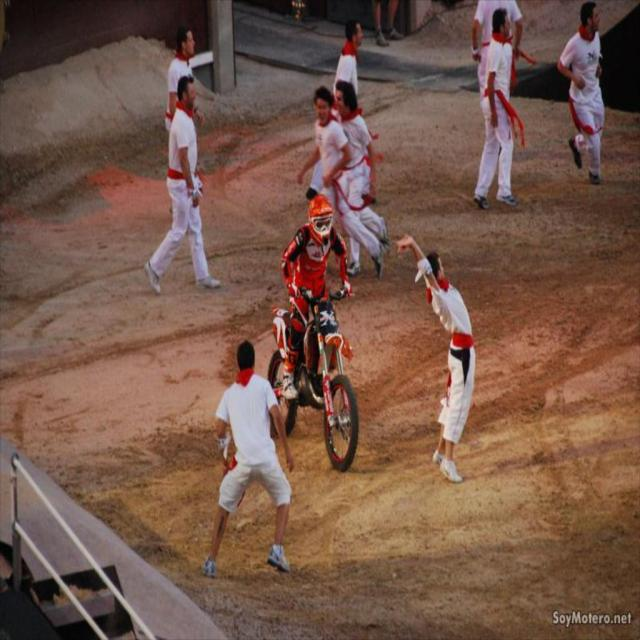Motorbikes: (264, 296, 364, 482)
Pedestrians: (200, 343, 297, 588), (398, 221, 482, 495), (144, 74, 224, 298)
